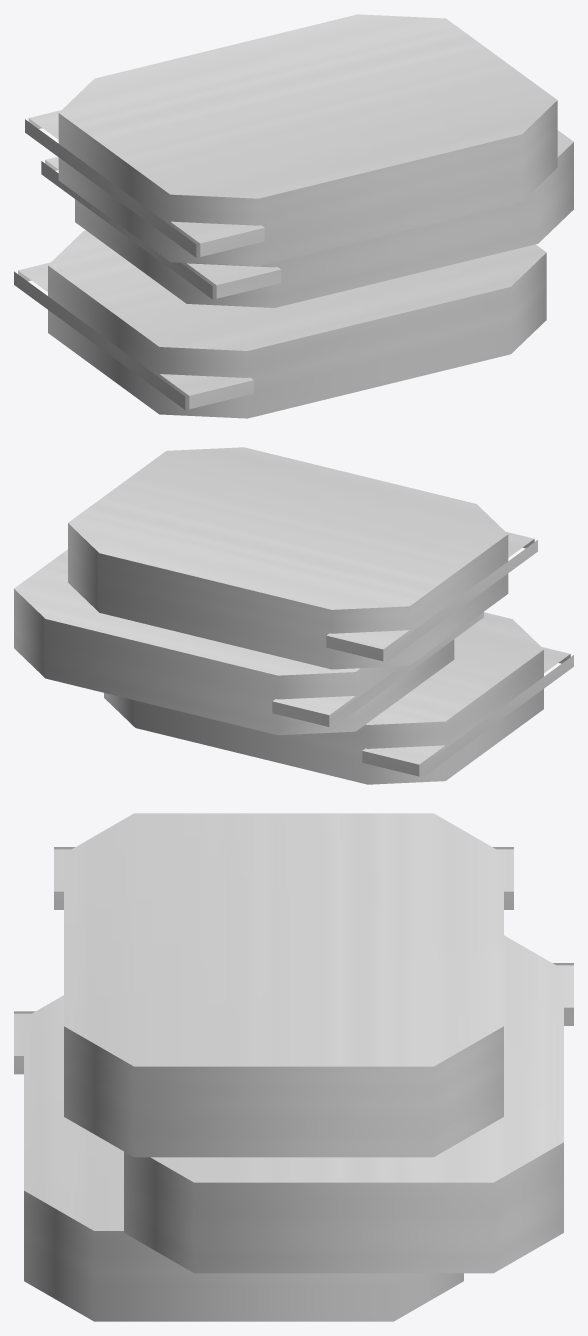
File: meal_survival.obj
3 renders of one model, top to bottom at view 1: azimuth 30°, elevation 25°; view 2: azimuth 150°, elevation 25°; view 3: azimuth 270°, elevation 25°, orthographic. The views are drawn at different scales.
Parts seen in each view (by area): view 1: part_020_foil, part_000_foil, part_010_foil, part_025_paint_olive, part_005_paint_olive, part_015_paint_olive; view 2: part_020_foil, part_010_foil, part_000_foil, part_005_paint_olive, part_025_paint_olive, part_015_paint_olive; view 3: part_020_foil, part_010_foil, part_000_foil, part_025_paint_olive, part_005_paint_olive, part_015_paint_olive.
Boxes of the visible parts, left/top/right/bottom form: part_020_foil: left=58, top=14, right=557, bottom=266; part_000_foil: left=48, top=230, right=546, bottom=418; part_010_foil: left=75, top=130, right=573, bottom=307; part_025_paint_olive: left=25, top=110, right=264, bottom=257; part_005_paint_olive: left=14, top=262, right=253, bottom=409; part_015_paint_olive: left=41, top=156, right=281, bottom=299; part_020_foil: left=68, top=447, right=508, bottom=669; part_010_foil: left=14, top=549, right=454, bottom=735; part_000_foil: left=104, top=612, right=543, bottom=784; part_005_paint_olive: left=362, top=647, right=573, bottom=776; part_025_paint_olive: left=326, top=532, right=537, bottom=661; part_015_paint_olive: left=272, top=612, right=483, bottom=727; part_020_foil: left=64, top=813, right=503, bottom=1157; part_010_foil: left=124, top=935, right=563, bottom=1273; part_000_foil: left=24, top=995, right=463, bottom=1321; part_025_paint_olive: left=54, top=847, right=513, bottom=909; part_005_paint_olive: left=14, top=1011, right=35, bottom=1074; part_015_paint_olive: left=553, top=963, right=573, bottom=1025.
Size of the model in its own units: 0.353 by 0.15 by 0.28.
